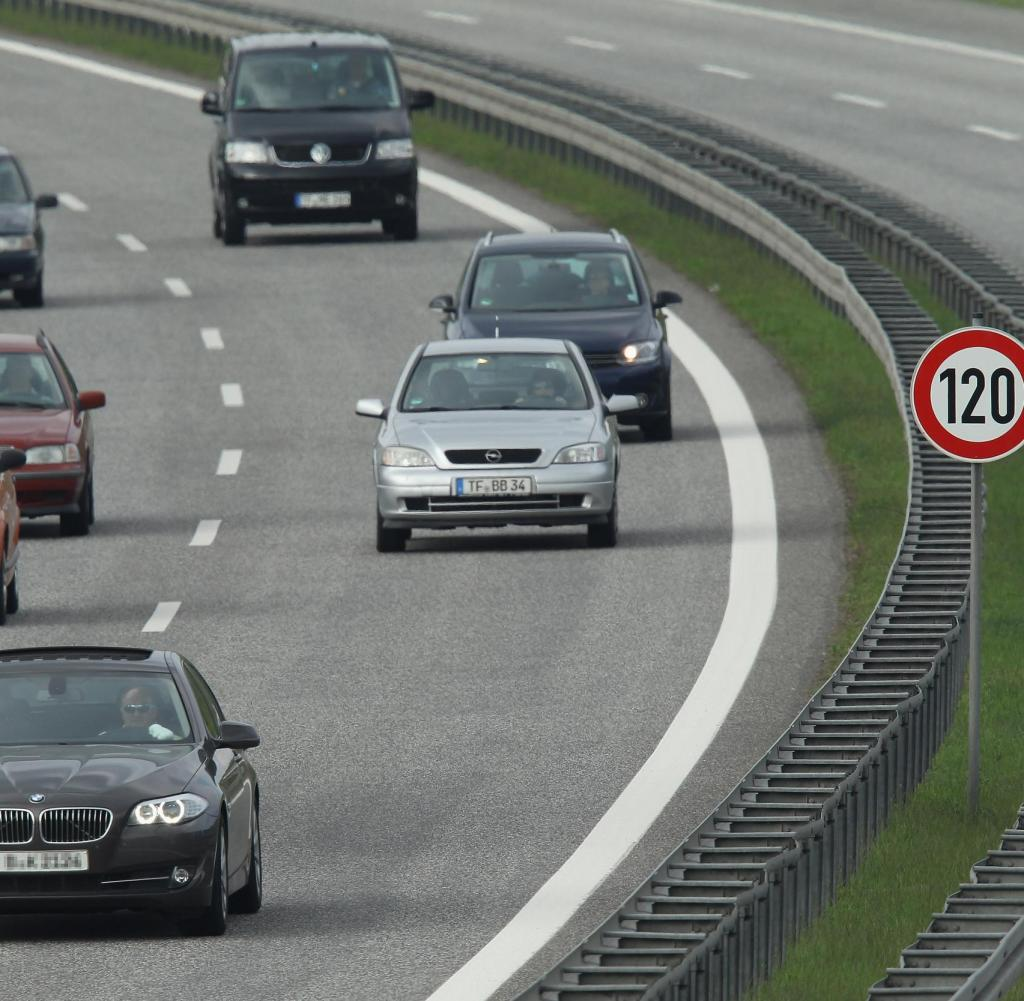Speed_limit_120km: (908, 327, 1024, 463)
car: (349, 328, 649, 558), (196, 29, 442, 244)
